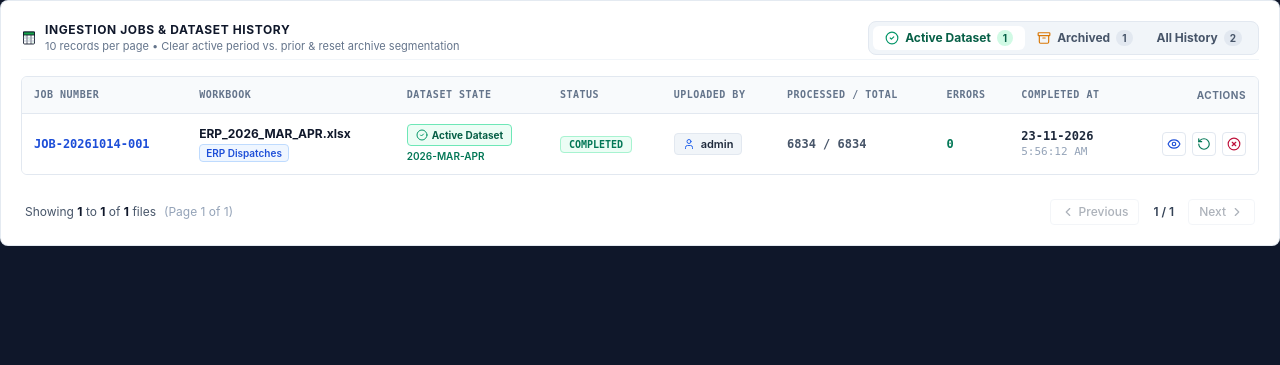
Test: RecentImports Revert & Archive Dataset Suite › switches to Archived tab and displays revert informational banner
The image size is (1280, 365).
Click the button "Archived 1".
click(1085, 38)  # box 1025,26 -> 1144,50
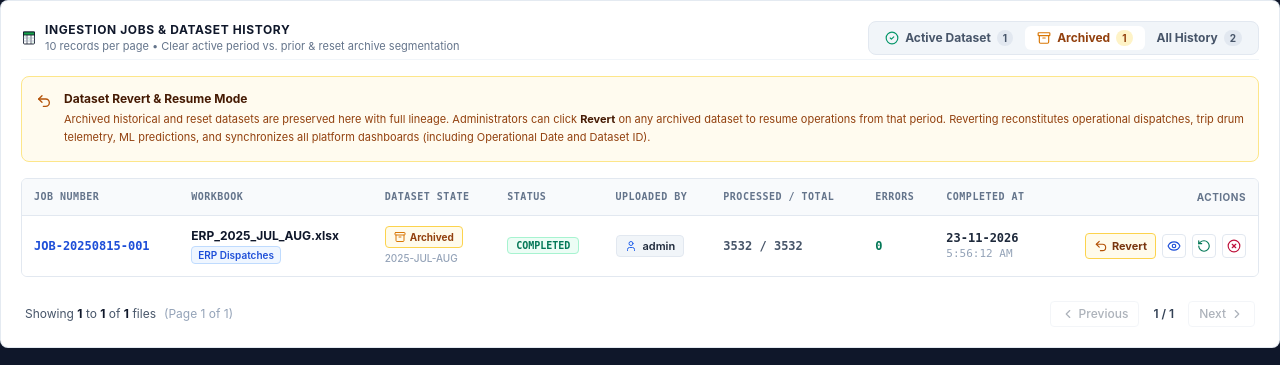
Result: the text "Dataset Revert & Resume Mode" is shown at 64,91 -> 248,106
Result: the text "ERP_2025_JUL_AUG.xlsx" is shown at 191,228 -> 361,244
